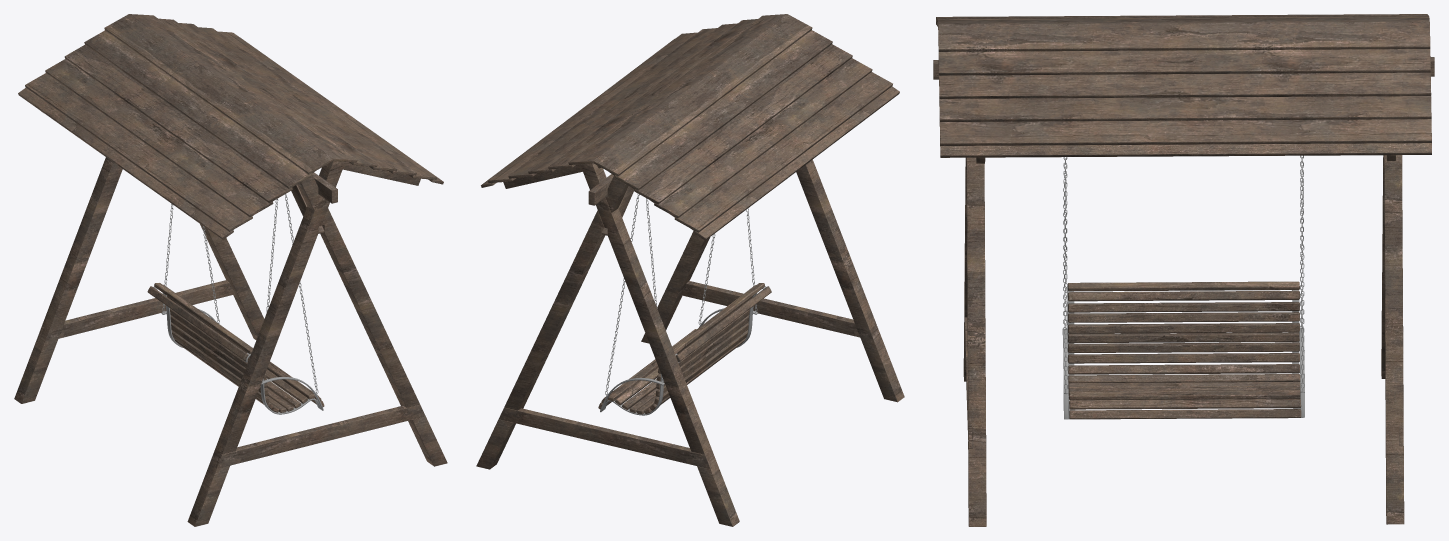
The model's file is SwingSet.gltf.
3 views of the same model, side by side, from view 1: azimuth 30°, elevation 25°; view 2: azimuth 150°, elevation 25°; view 3: azimuth 270°, elevation 25° (orthographic). The views are drawn at different scales.
Visible parts, largest first — view 1: WOOD, METAL; view 2: WOOD, METAL; view 3: WOOD, METAL.
Part boxes in pixels (box(x1,y1,x2,y2)): WOOD: box(14, 14, 447, 526); METAL: box(153, 194, 323, 414); WOOD: box(476, 14, 904, 526); METAL: box(600, 193, 766, 415); WOOD: box(933, 14, 1434, 526); METAL: box(1062, 155, 1304, 419).
Size of the model in its own units: 2.07 by 2.63 by 2.81.
2 materials, 1 textured.
